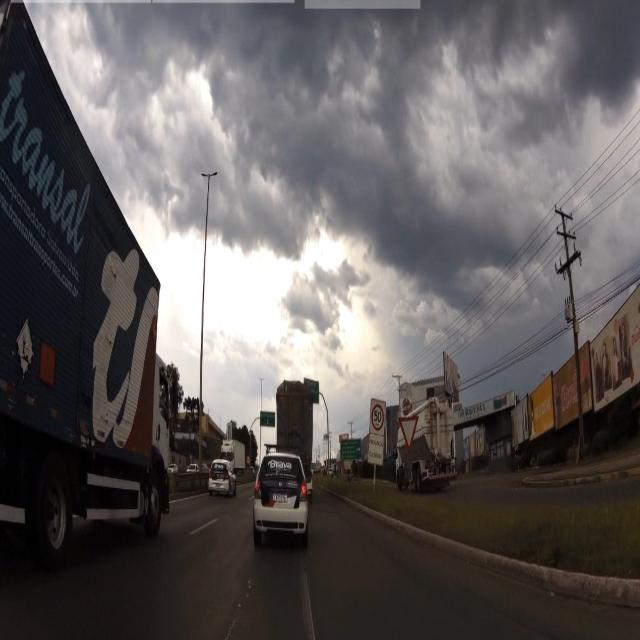R-19: (372, 397, 384, 435)
R-2: (398, 416, 418, 448)
